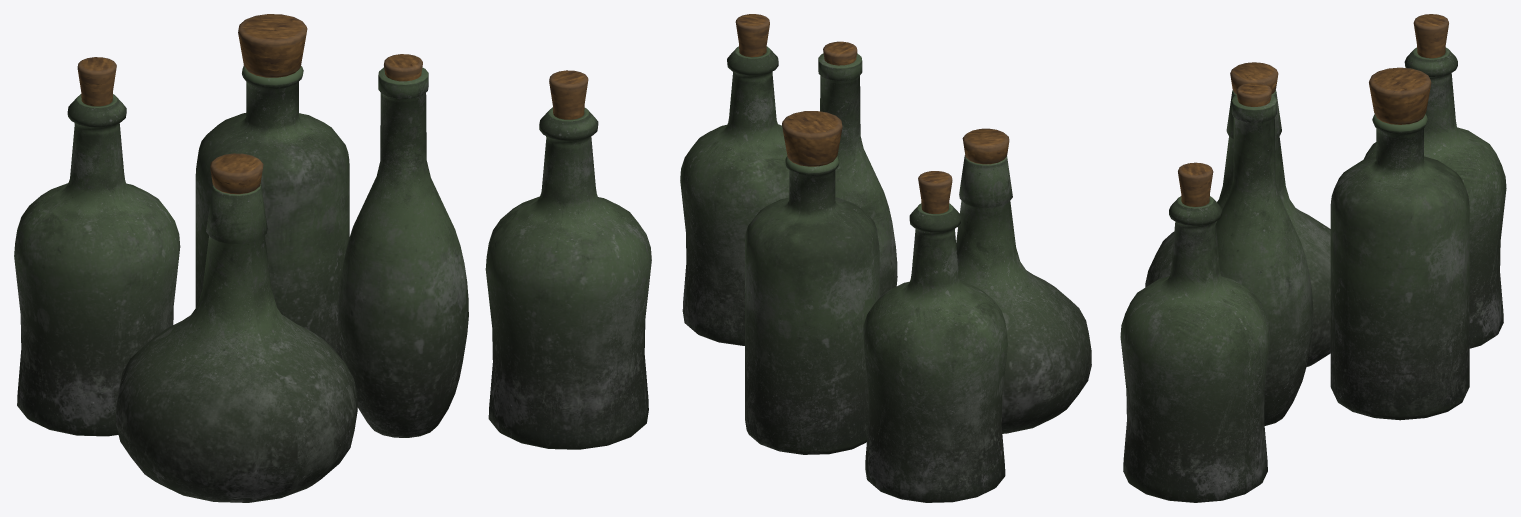
The model's file is Bottle_set_4.fbx.
3 renders of one model, left to right at view 1: azimuth 30°, elevation 25°; view 2: azimuth 150°, elevation 25°; view 3: azimuth 270°, elevation 25°, orthographic. The views are drawn at different scales.
Parts seen in each view (by area): view 1: Bottle_set_4; view 2: Bottle_set_4; view 3: Bottle_set_4.
Boxes of the visible parts, <box> form: Bottle_set_4: <box>14,14,651,502</box>; Bottle_set_4: <box>680,14,1091,502</box>; Bottle_set_4: <box>1120,14,1506,502</box>.
Size of the model in its own units: 47.85 by 34.31 by 36.8.
